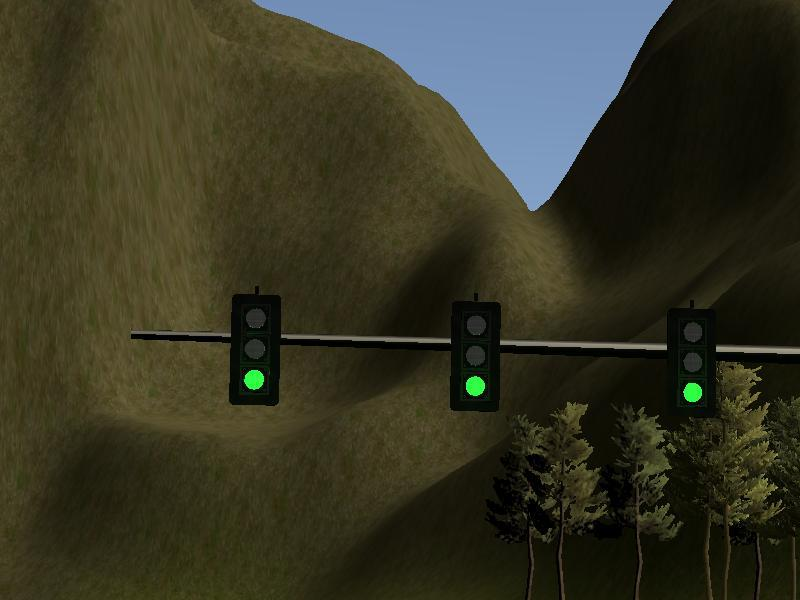Green: (233, 292, 283, 404), (670, 308, 718, 416), (451, 302, 498, 409)
